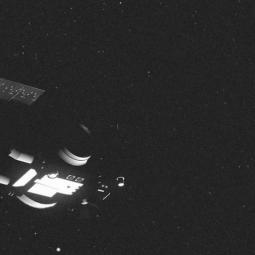proba_3_csc: (0, 78, 131, 224)
